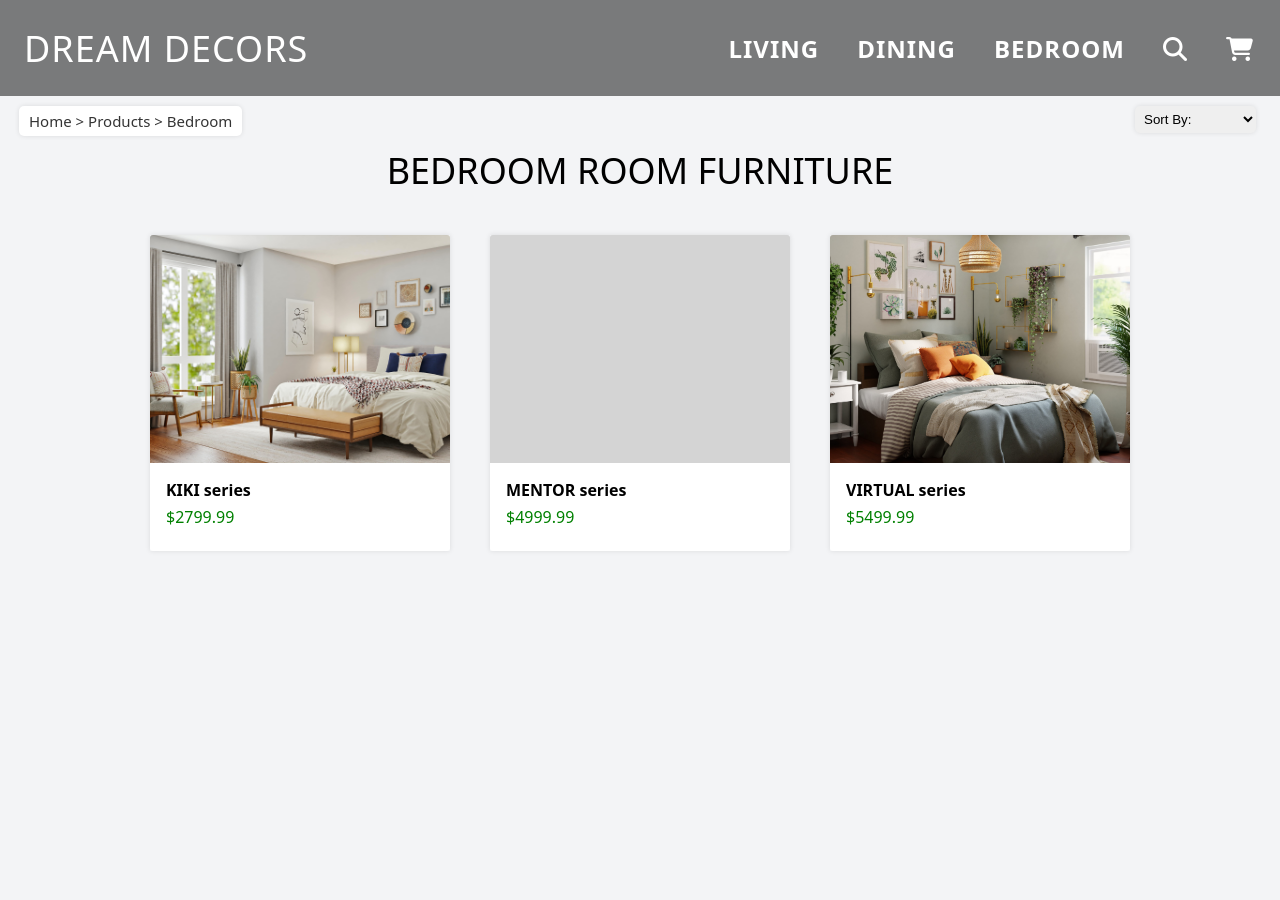
Test: Nav Links work Correctly › Clicking on cart icon loads cart component
What coordinates should you click on to do the following:
click the icon with test id "cart"
I would click on:
 (1240, 48)
Its box is [1226,36,1254,60].
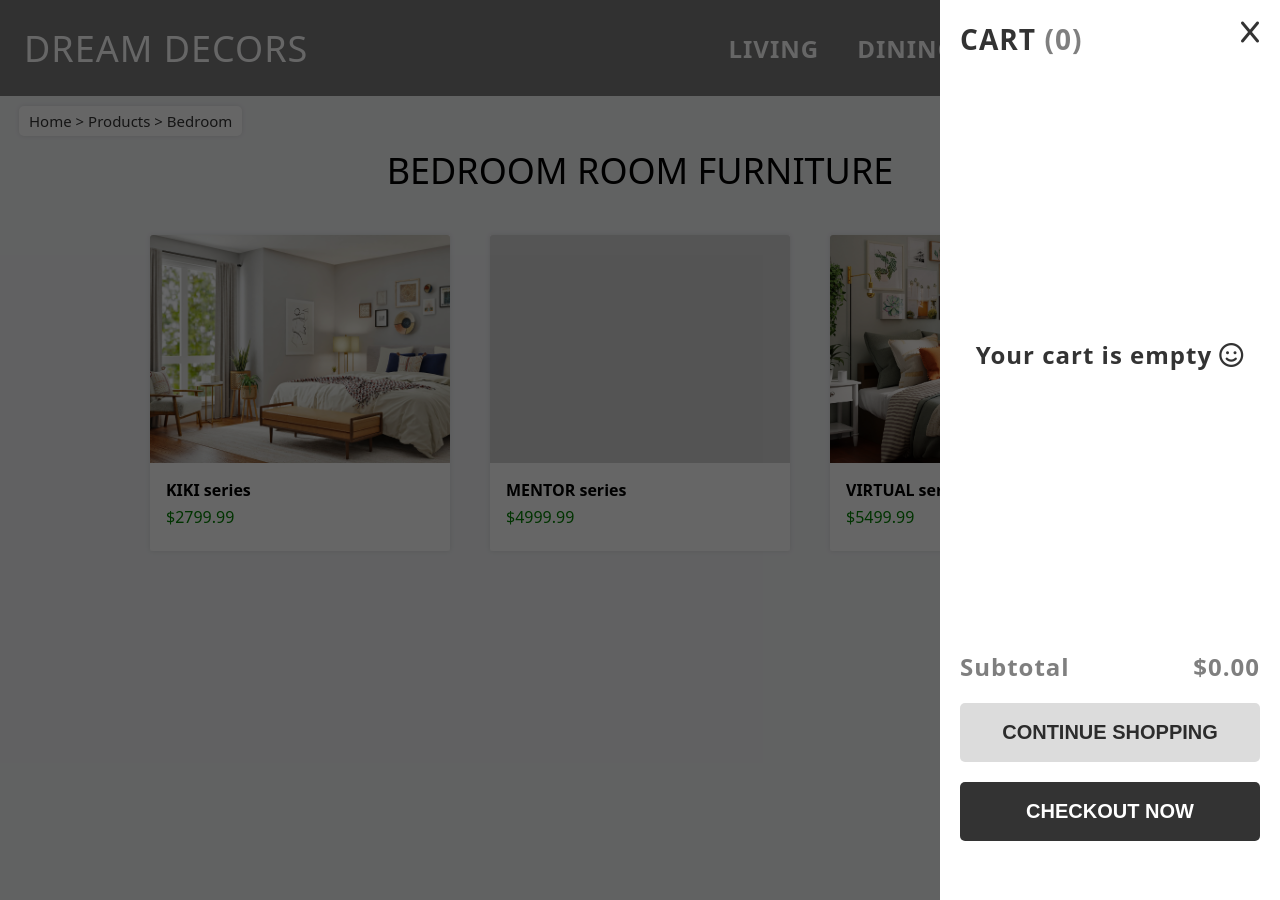
Now the text "Subtotal" is shown, box [960,650,1070,683]
